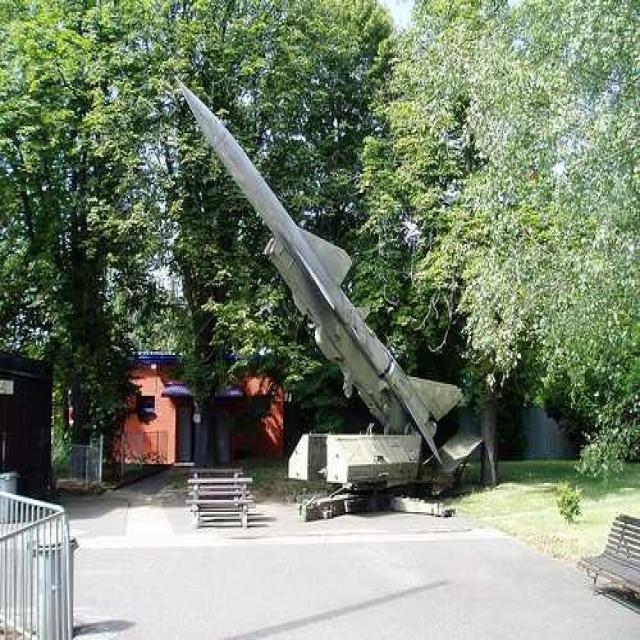missile: (172, 70, 450, 462)
